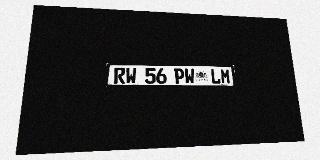plate: (106, 63, 236, 87)
